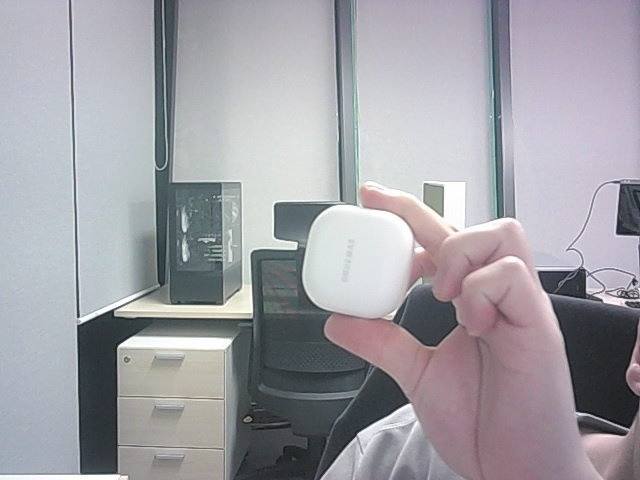case: (300, 204, 413, 318)
